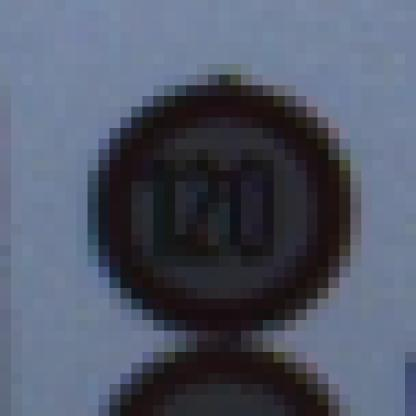Speed Limit 120: (101, 89, 341, 325)
